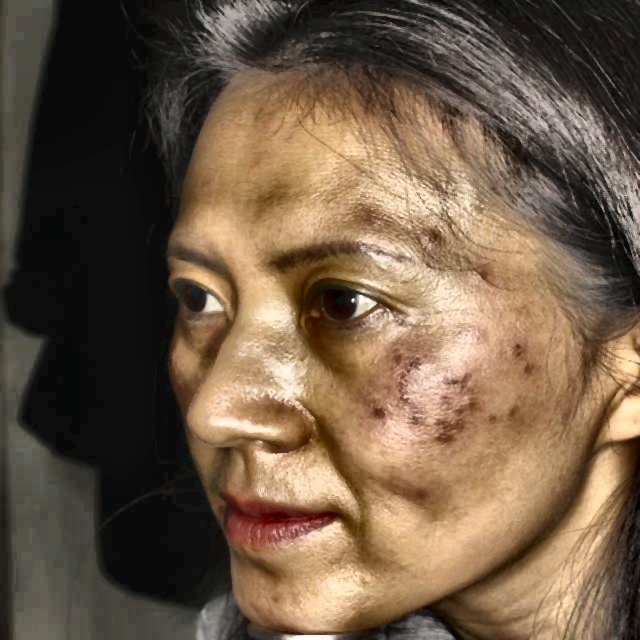pustule: (427, 422, 464, 450), (396, 389, 432, 416), (360, 404, 396, 428), (408, 480, 442, 505), (451, 390, 486, 414), (516, 358, 542, 382), (502, 334, 525, 356)
